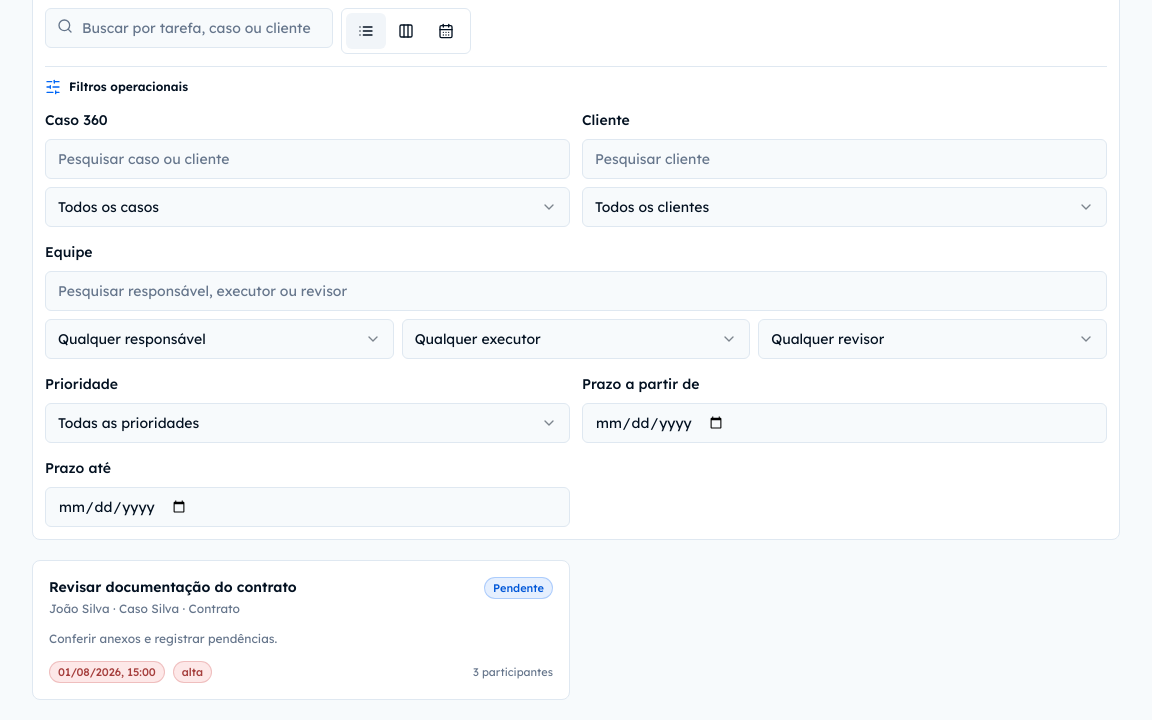
Test case: TasksPage › uses the real task contracts for the operational views and collaborative drawer
(page scrolled)
Expected: the heading "Revisar documentação do contrato" is shown, x1=49 y1=577 x2=297 y2=597
Click the button "Revisar documentação do contrato" at (173, 587), box x1=32 y1=560 x2=570 y2=700
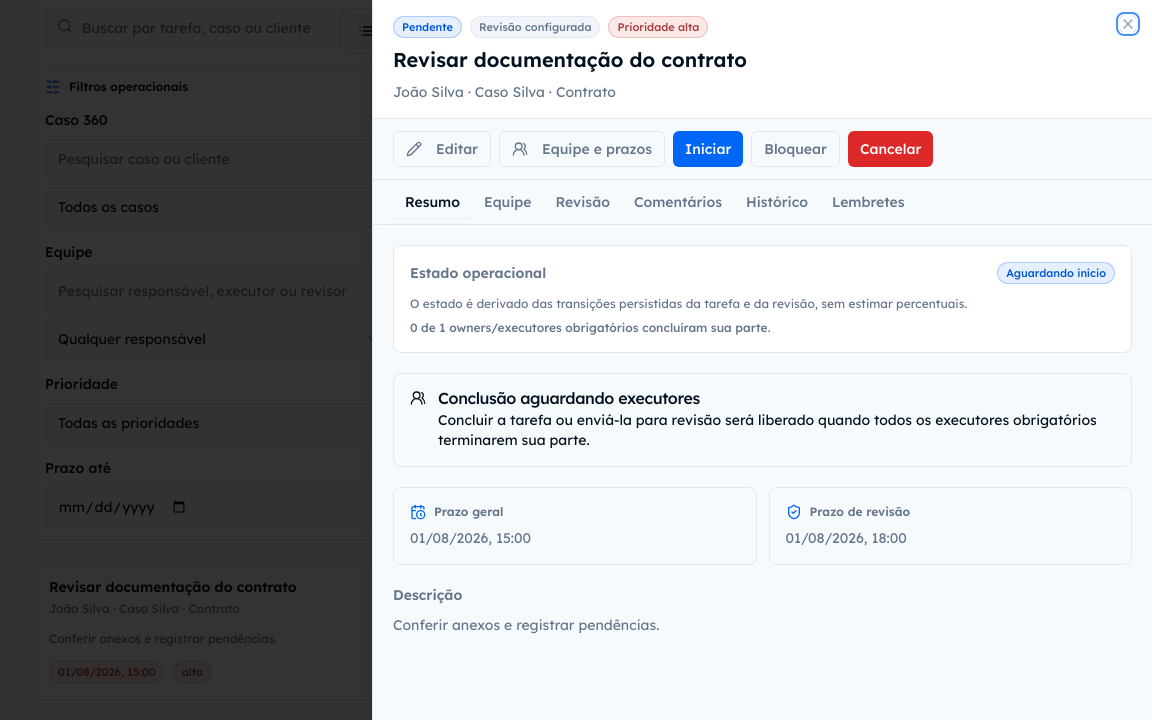
Expected: the tab "Equipe" is shown, x1=472 y1=186 x2=544 y2=218
Expected: the tab "Revisão" is shown, x1=544 y1=186 x2=622 y2=218
Expected: the tab "Histórico" is shown, x1=734 y1=186 x2=820 y2=218
